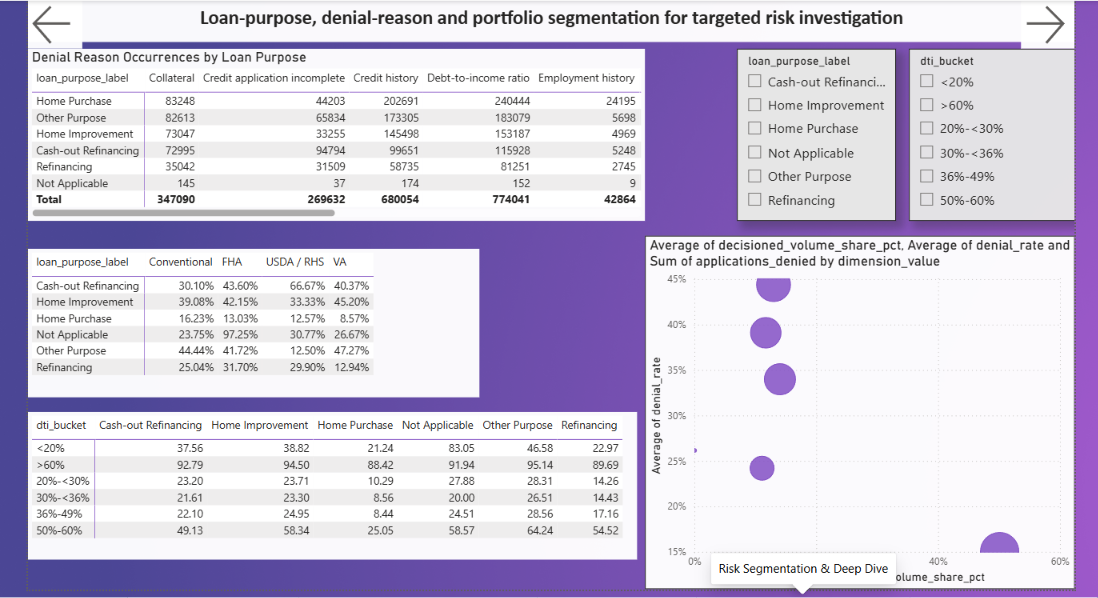

The dashboard page shown, as its layout file describes it:
{"tool":"powerbi","page":{"name":"Risk Segmentation & Deep Dive","canvas":[1280,720],"ordinal":5},"visuals":[{"type":"textbox","box":[0,0,1280.3,50.1],"z":0},{"type":"pivotTable","title":"Denial Reason Occurrences by Loan Purpose","fields":{"Rows":["hmda_credit_risk vw_denial_reason_by_purpose.loan_purpose_label"],"Columns":["hmda_credit_risk vw_denial_reason_by_purpose.denial_reason"],"Values":["Sum(hmda_credit_risk vw_denial_reason_by_purpose.reason_occurrences)"]},"box":[0,58.7,754.5,210.3],"z":1000},{"type":"pivotTable","fields":{"Rows":["hmda_credit_risk vw_loan_purpose_type_risk.loan_purpose_label"],"Columns":["hmda_credit_risk vw_loan_purpose_type_risk.loan_type_label"],"Values":["Sum(hmda_credit_risk vw_loan_purpose_type_risk.denial_rate)"]},"box":[0,303.6,552.1,181.4],"z":2000},{"type":"pivotTable","fields":{"Rows":["hmda_credit_risk vw_dti_purpose_risk.dti_bucket"],"Columns":["hmda_credit_risk vw_dti_purpose_risk.loan_purpose_label"],"Values":["Sum(hmda_credit_risk vw_dti_purpose_risk.denial_rate)"]},"box":[0,502.6,744.7,181],"z":3000},{"type":"scatterChart","fields":{"X":["Avg(hmda_credit_risk vw_risk_concentration.decisioned_volume_share_pct)"],"Y":["Avg(hmda_credit_risk vw_risk_concentration.denial_rate)"],"Size":["Sum(hmda_credit_risk vw_risk_concentration.applications_denied)"],"Category":["hmda_credit_risk vw_risk_concentration.dimension_value"]},"box":[754.5,287.4,525.8,431.7],"z":4000},{"type":"actionButton","box":[0,0,66,58.7],"z":5000},{"type":"slicer","fields":{"Values":["Dim Loan Purpose.loan_purpose_label"]},"box":[867,58.7,194.4,210.3],"z":6000},{"type":"slicer","fields":{"Values":["hmda_credit_risk vw_dti_purpose_risk.dti_bucket"]},"box":[1077.3,58.7,203,210.3],"z":7000},{"type":"actionButton","box":[1214.3,0,66,58.7],"z":8000}]}

Visuals, with their boxes in screenshot pixels (x1, y1, x2, y2):
textbox: 23:0:1071:38
"Denial Reason Occurrences by Loan Purpose" pivotTable: 23:45:640:217
pivotTable - hmda_credit_risk vw_loan_purpose_type_risk.loan_purpose_label x hmda_credit_risk vw_loan_purpose_type_risk.loan_type_label: 23:246:475:394
pivotTable - hmda_credit_risk vw_dti_purpose_risk.dti_bucket x hmda_credit_risk vw_dti_purpose_risk.loan_purpose_label: 23:409:632:557
scatterChart - Avg(hmda_credit_risk vw_risk_concentration.decisioned_volume_share_pct) x Avg(hmda_credit_risk vw_risk_concentration.denial_rate): 640:232:1071:586
actionButton: 23:0:77:45
slicer - Dim Loan Purpose.loan_purpose_label: 733:45:892:217
slicer - hmda_credit_risk vw_dti_purpose_risk.dti_bucket: 905:45:1071:217
actionButton: 1017:0:1071:45
